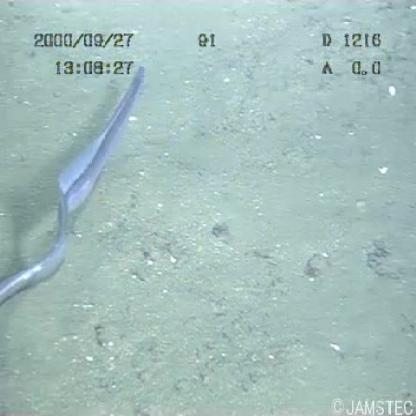Bio: (1, 58, 151, 308)
